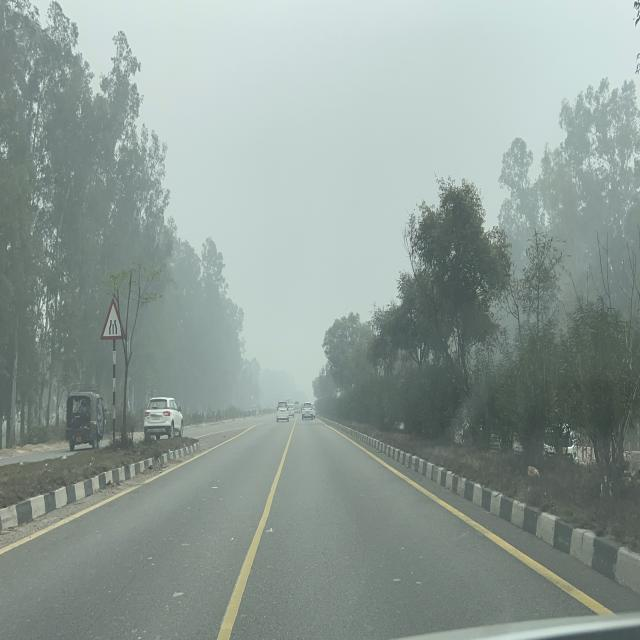ROAD_WIDENS_AHEAD: (100, 296, 126, 341)
